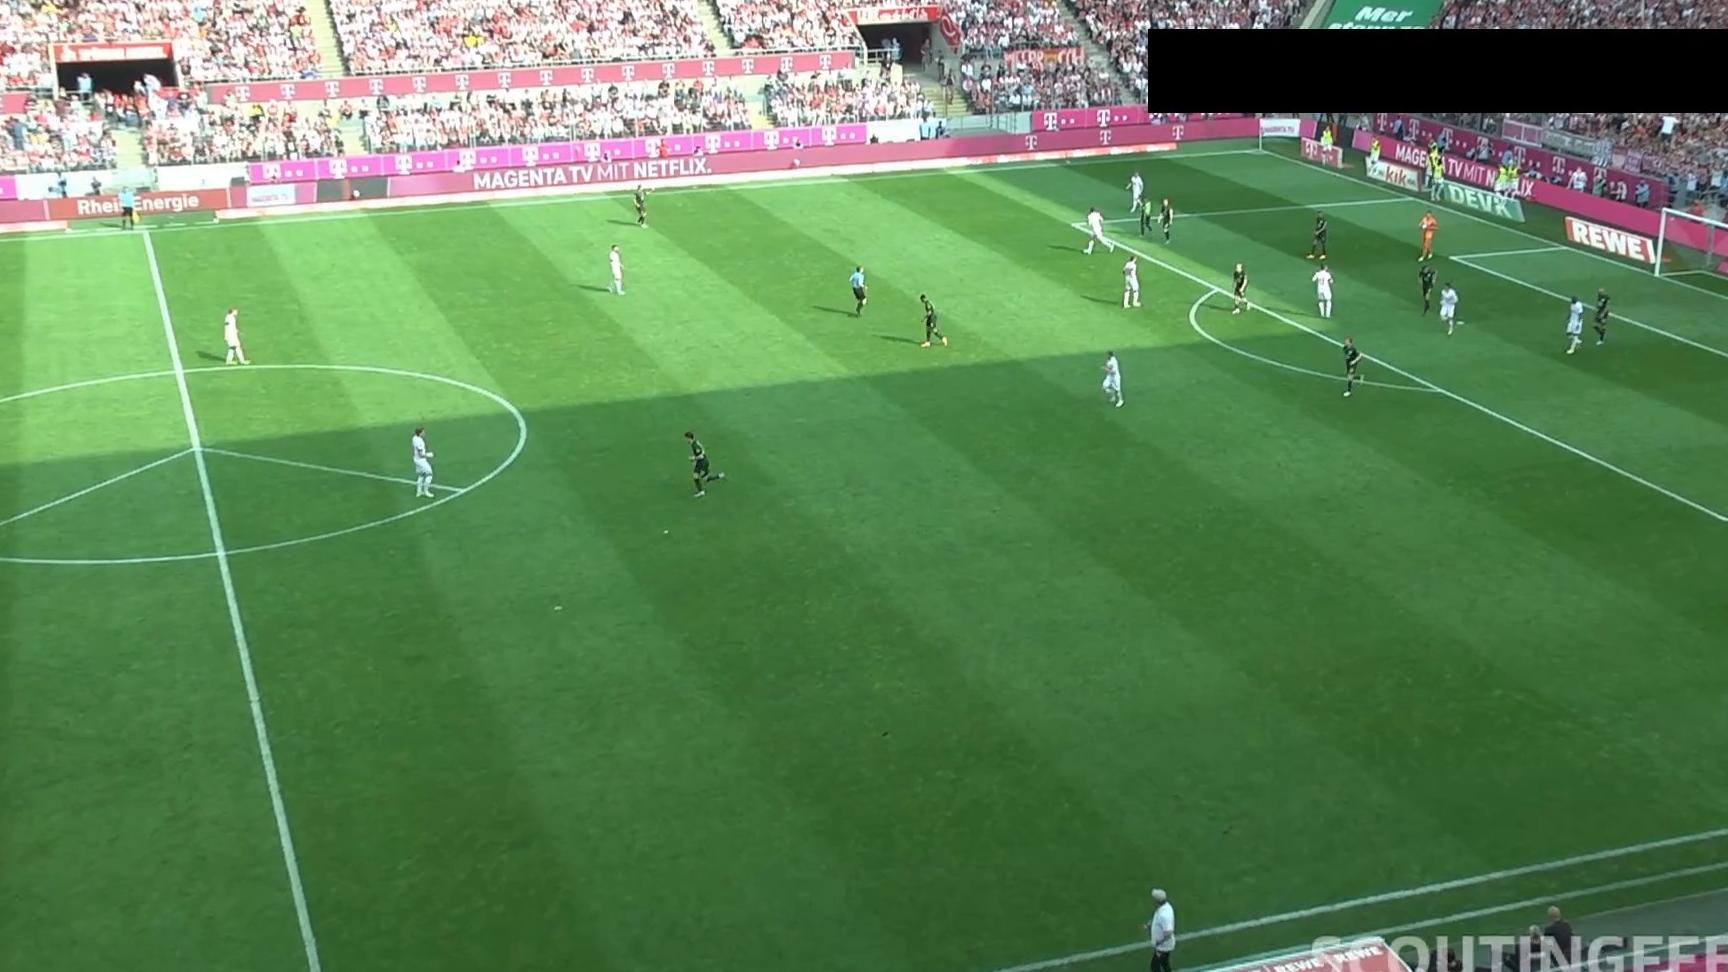ball: (1419, 223, 1428, 230)
